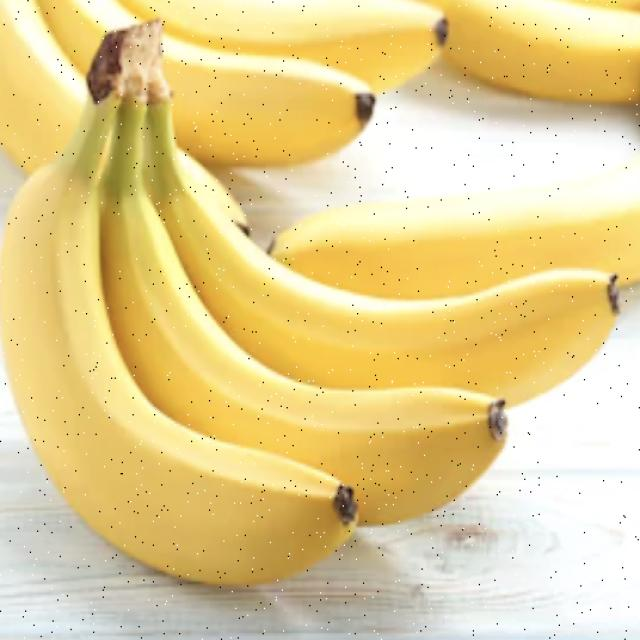god quality banana: (0, 1, 640, 585)
